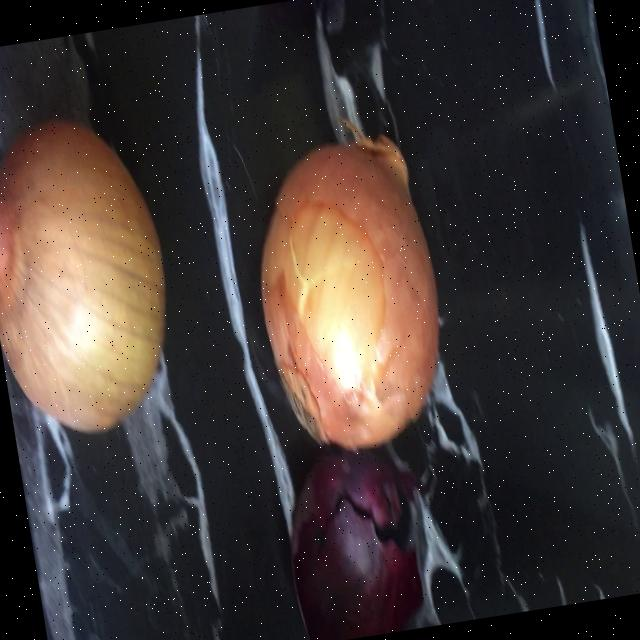Onion: (260, 132, 437, 448), (0, 121, 163, 432)
